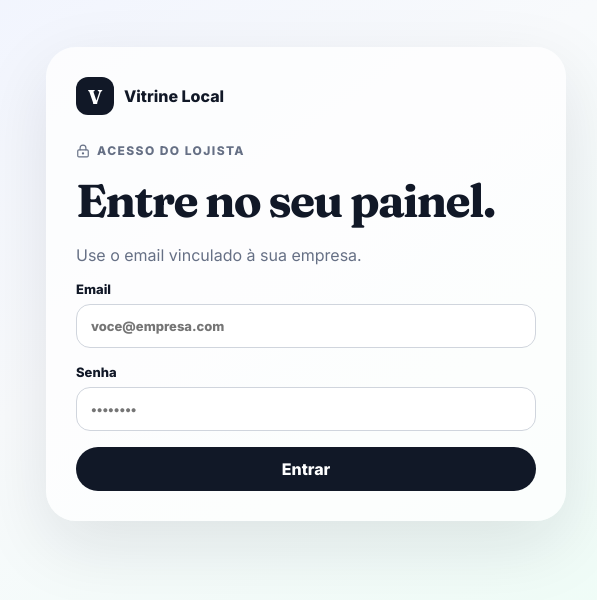
AuthPage › mostra erro de autenticação
Type "admin@example.com" into the field labelled "Email" at (306,326), box [76,304,536,348]
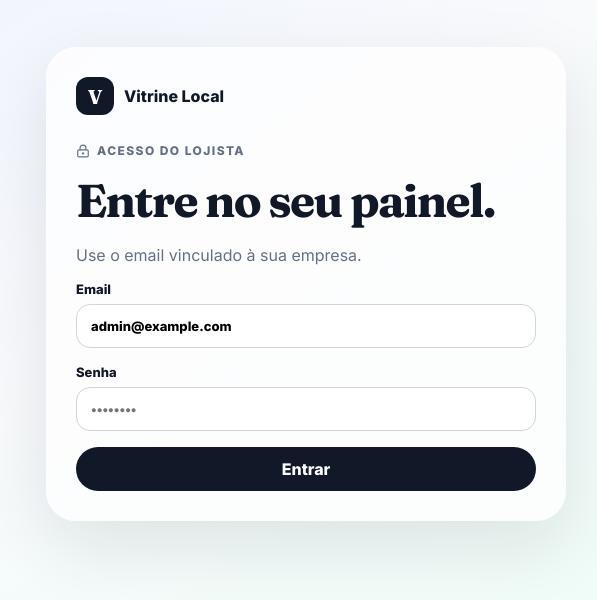
Type "errada" into the password field labelled "Senha" at (306,409), box [76,387,536,431]
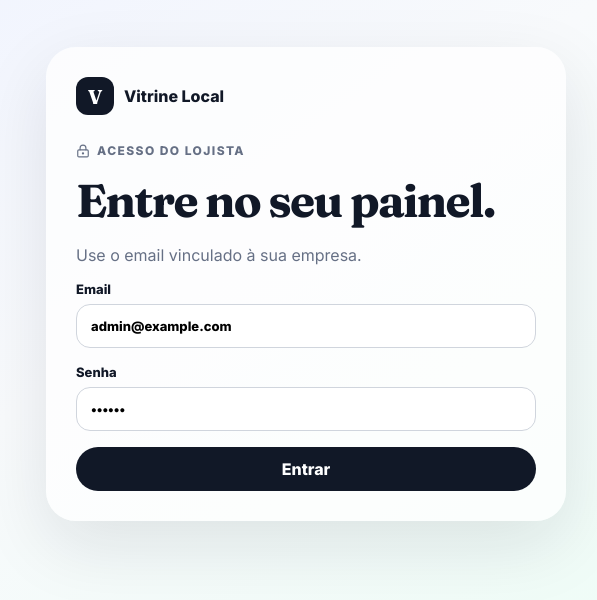
Click the button "Entrar" at (306,469), box [76,447,536,491]
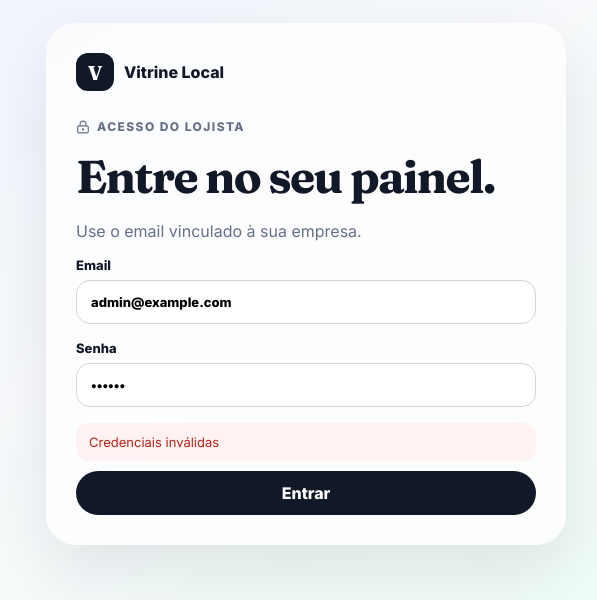
Expected: the text "Credenciais inválidas" is shown, [76,423,536,461]
